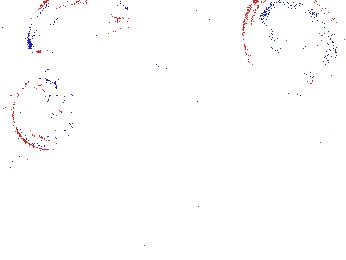moon jellyfish: (243, 1, 346, 95), (27, 1, 130, 55), (108, 1, 211, 54), (12, 77, 70, 151)
